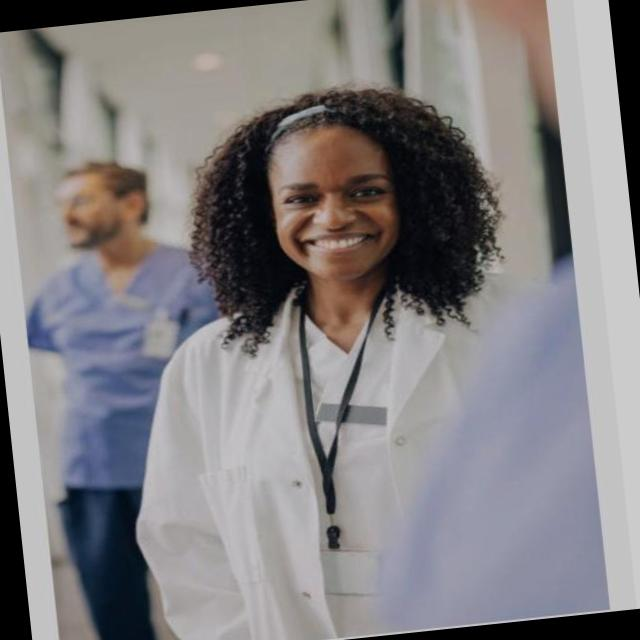id_card: (283, 282, 398, 602)
